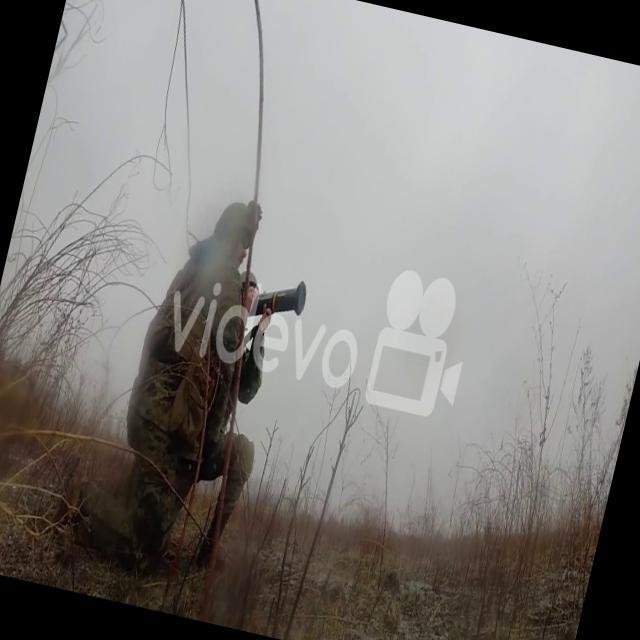rocket: (246, 268, 312, 342)
